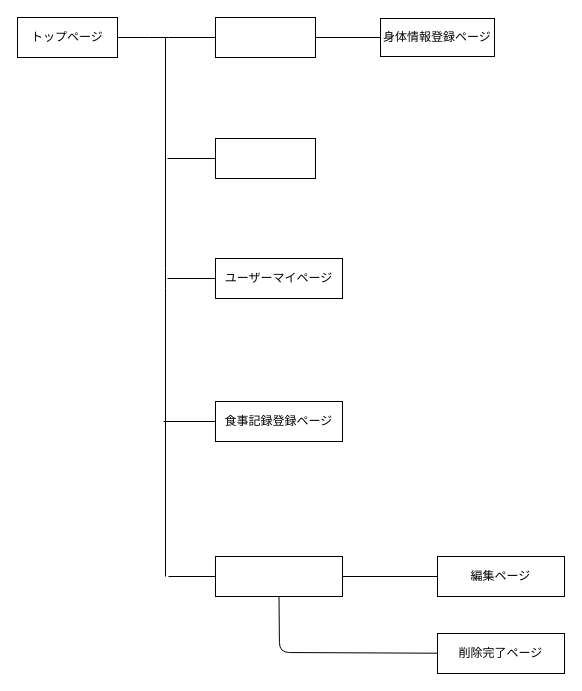
The diagram is 582 pixels wide and 691 high, and some of its shapes have lost their labels. The shapes that lost their labels are listed below. From the top down, each one's box as (x1, y1, x2, y2) in pixels, then its label:
(214, 16, 316, 58): 新規登録ページ
(214, 138, 316, 178): ログインページ
(214, 556, 342, 596): 食事記録検索ページ
